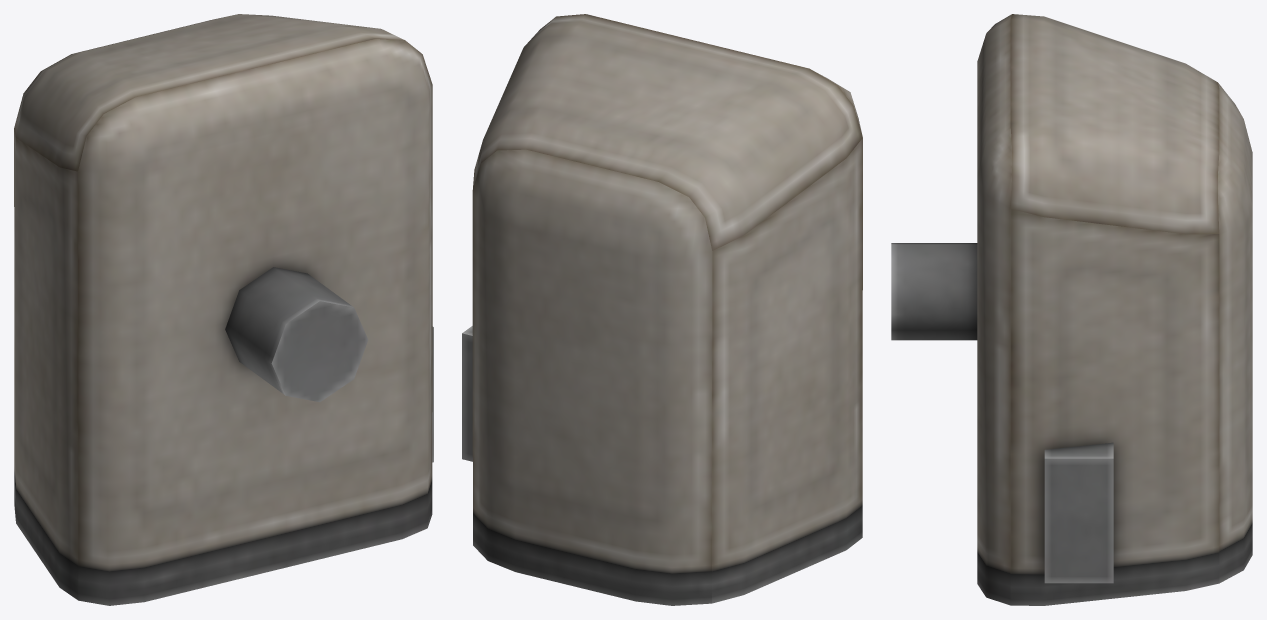
File: fgb engine no pan.obj
The picture shows the model from 3 angles, left to right: view 1: azimuth 30°, elevation 25°; view 2: azimuth 150°, elevation 25°; view 3: azimuth 270°, elevation 25°; orthographic projection. The views are drawn at different scales.
Parts seen in each view (by area): view 1: 1; view 2: 1; view 3: 1.
Part boxes in pixels (x1,y1,x2,y2): 1: (14, 14, 433, 605); 1: (462, 14, 862, 605); 1: (891, 14, 1252, 605).
Size of the model in its own units: 0.2906 by 0.3754 by 0.2625.
1 material, 1 textured.
